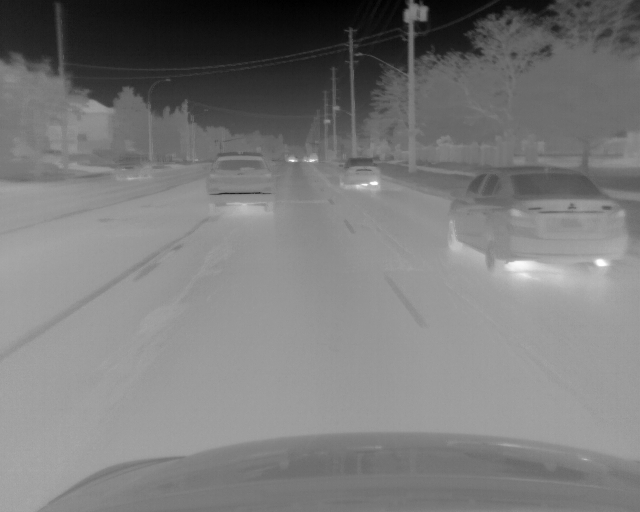car: (448, 167, 627, 276), (205, 151, 274, 215), (338, 157, 380, 190)
